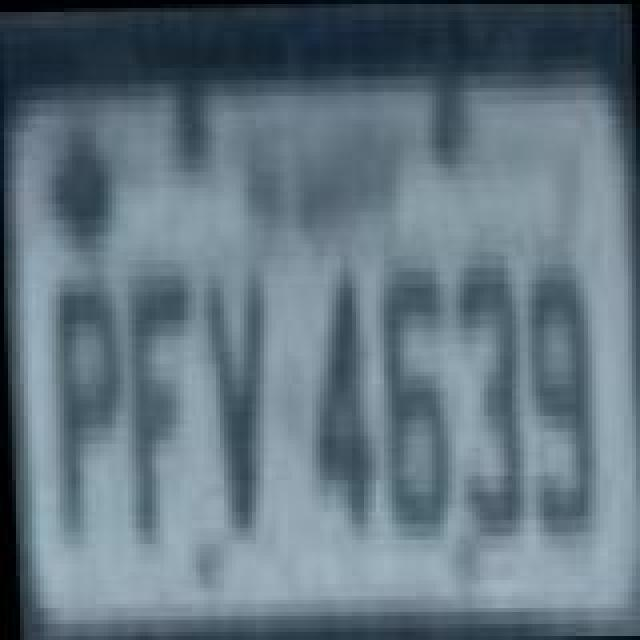3: (446, 260, 526, 532)
4: (300, 250, 376, 538)
6: (376, 262, 452, 534)
9: (518, 260, 598, 548)
F: (116, 270, 200, 542)
P: (46, 280, 126, 536)
V: (200, 276, 276, 520)
